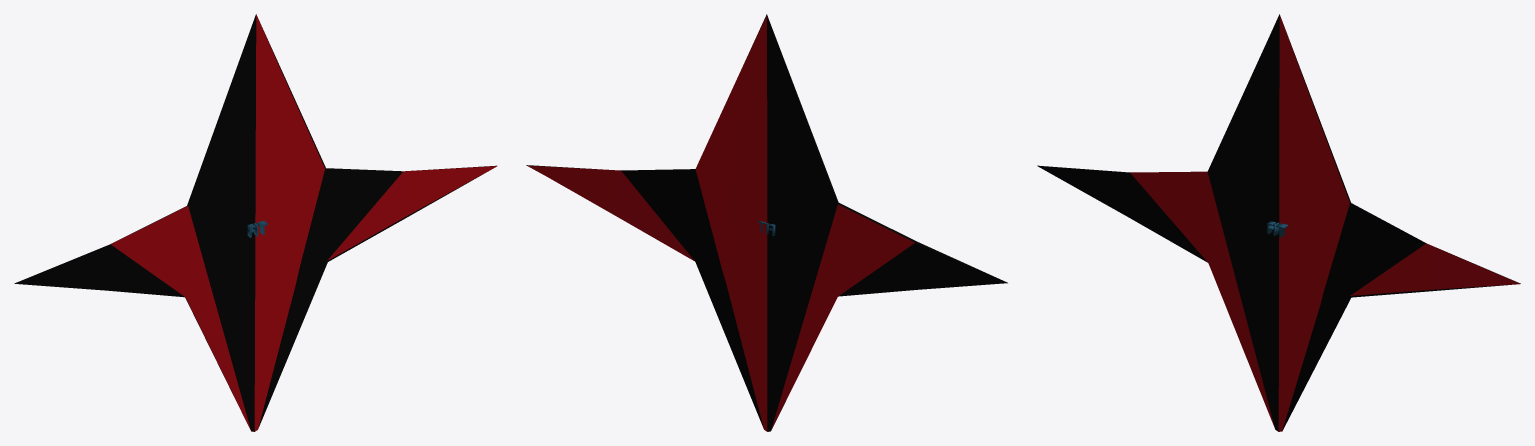
File: Blade.fbx
3 renders of one model, left to right at view 1: azimuth 30°, elevation 25°; view 2: azimuth 150°, elevation 25°; view 3: azimuth 330°, elevation 25°, orthographic.
Visible parts, largest first — view 1: Cube; view 2: Cube; view 3: Cube.
Boxes of the visible parts, x1,y1,x2,y2 form: Cube: (14, 14, 497, 431); Cube: (526, 14, 1007, 431); Cube: (1037, 14, 1520, 431).
Size of the model in its own units: 242 by 200 by 4.83.
